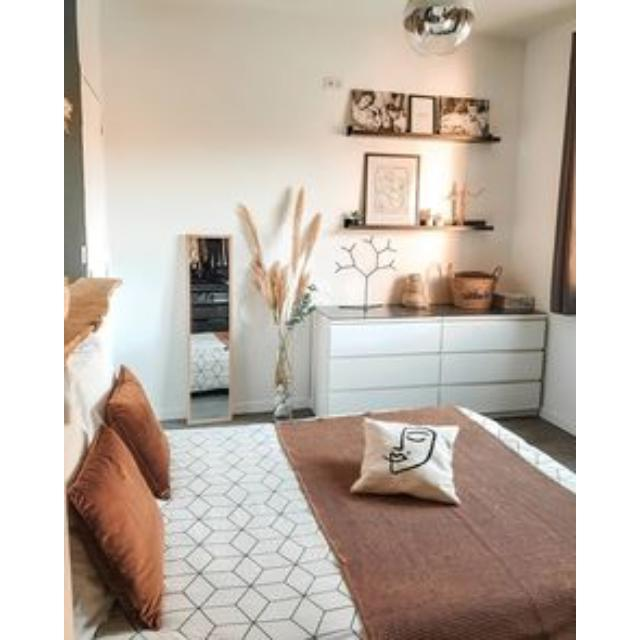bed: (65, 318, 573, 640)
plant: (237, 186, 321, 418), (335, 236, 397, 309)
table: (313, 306, 546, 416)
wall-art: (365, 155, 432, 226)
